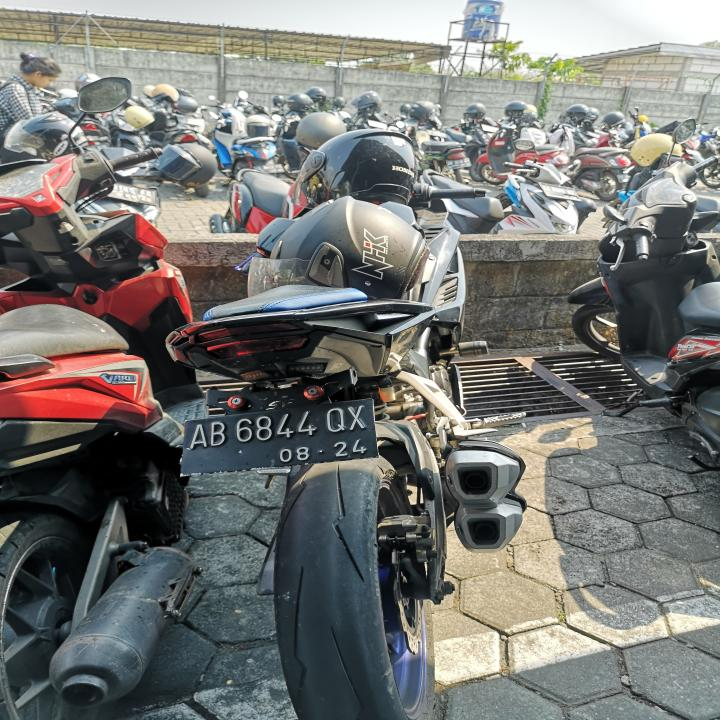plate: (179, 395, 379, 476)
